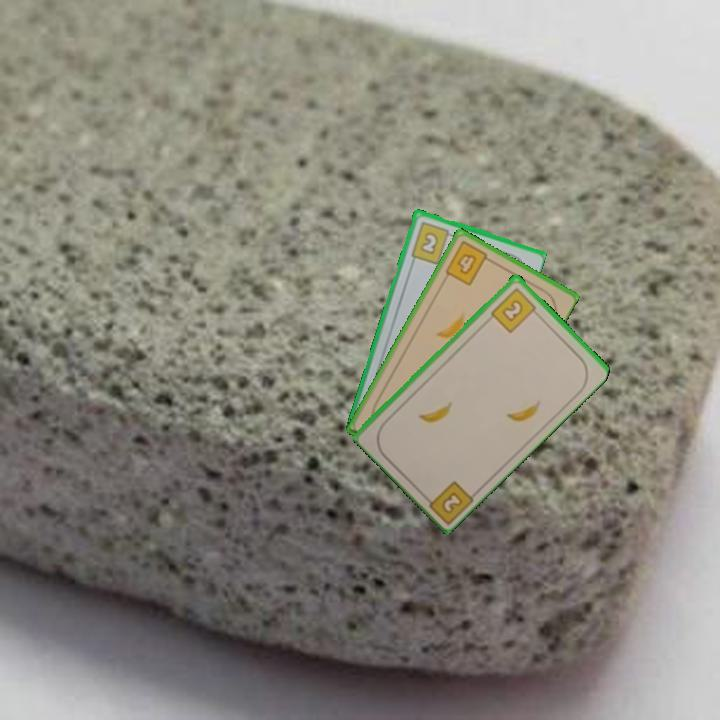2b: (487, 284, 542, 335), (419, 477, 477, 525), (407, 218, 457, 266)
4b: (441, 237, 495, 289)
